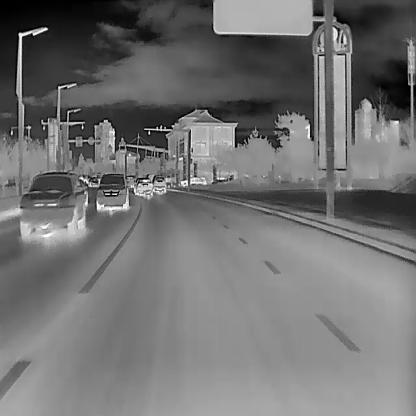car: (18, 170, 86, 239), (95, 172, 129, 210), (134, 176, 152, 195), (152, 174, 166, 192), (125, 174, 135, 188)
